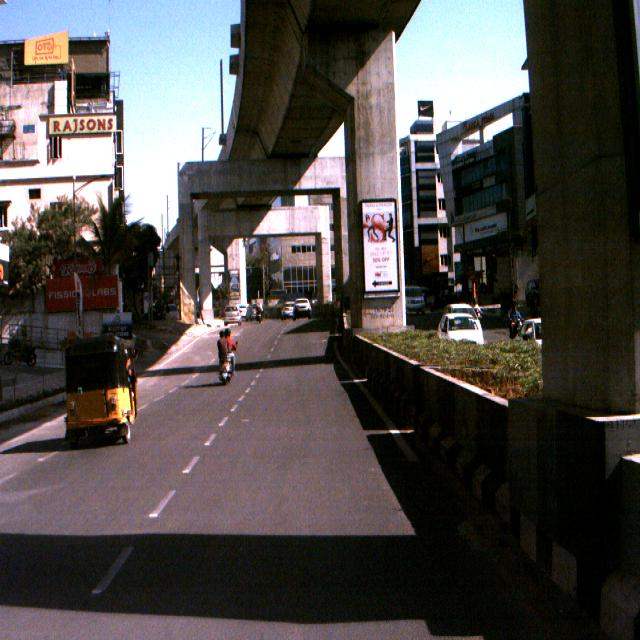auto ahead at: (60, 332, 138, 456)
